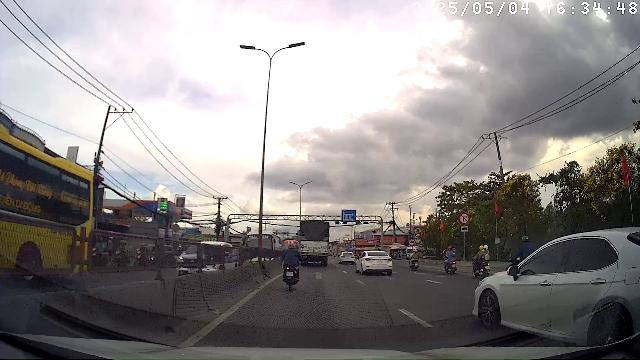123b-cam-re-phai: (458, 212, 470, 225)
